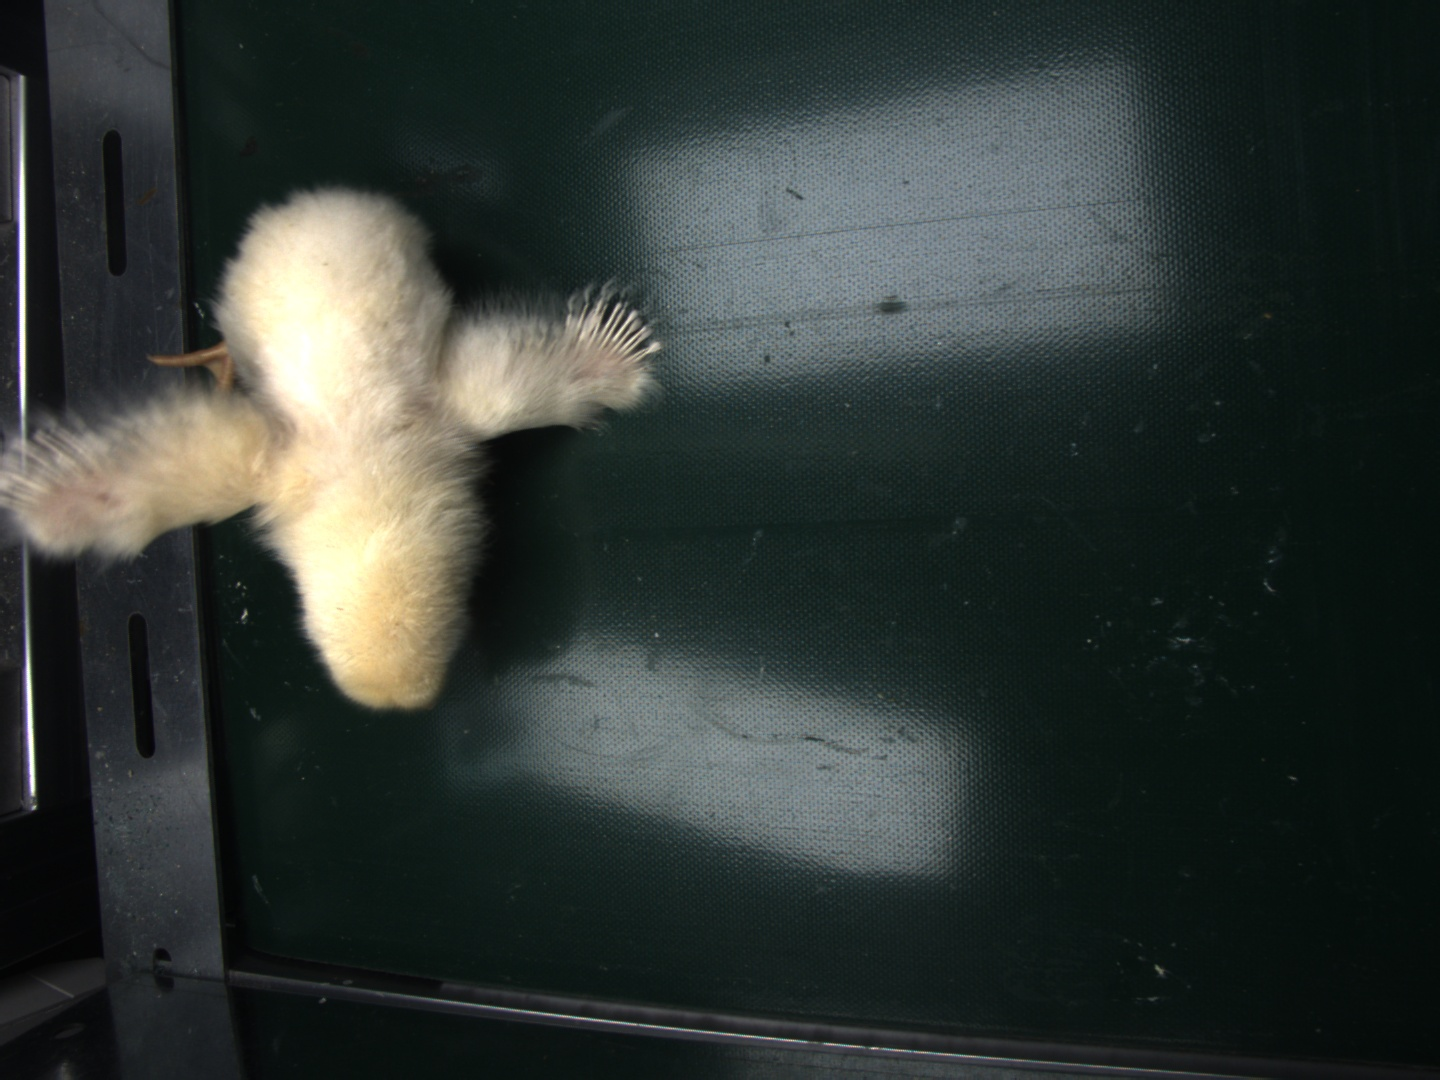male: (571, 297, 659, 365)
